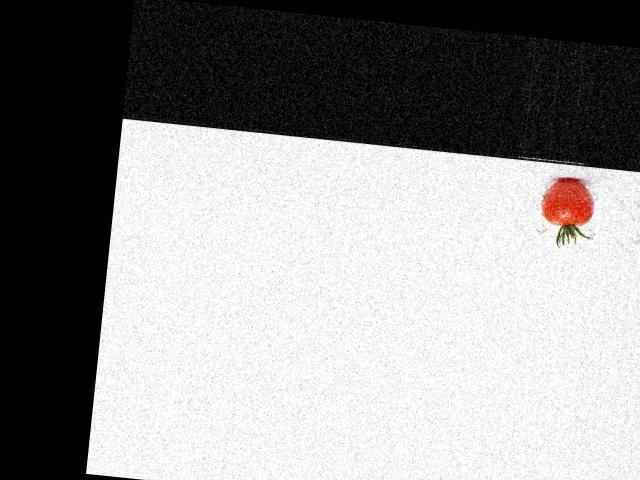tomato: (541, 176, 597, 228)
